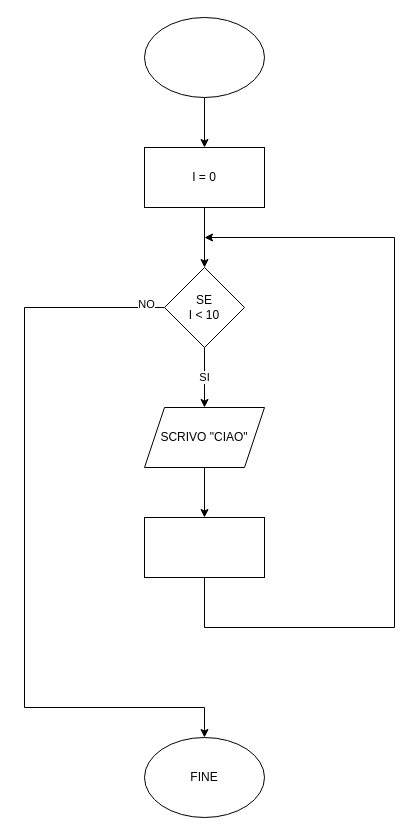
Some shapes in this 420 by 835 pixel diagram are drawn without their labels. The box of each missing label's shape, as (x1, y1, x2, y2) in pixels:
I = I + 1: (144, 516, 264, 578)
INIZIO: (144, 16, 264, 98)
